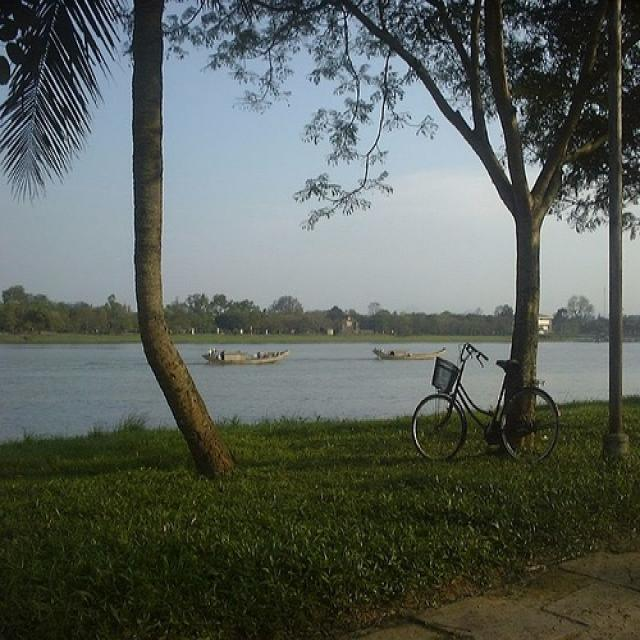bicycle: (408, 338, 562, 468)
pole: (595, 2, 631, 454)
